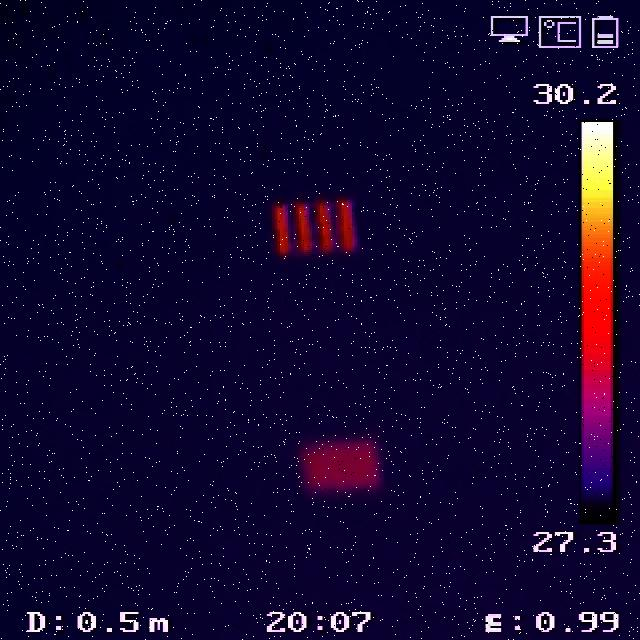Distinguishable 4-bar target: (271, 199, 357, 258)
Indistinguishable 4-bar target: (302, 440, 386, 495)
